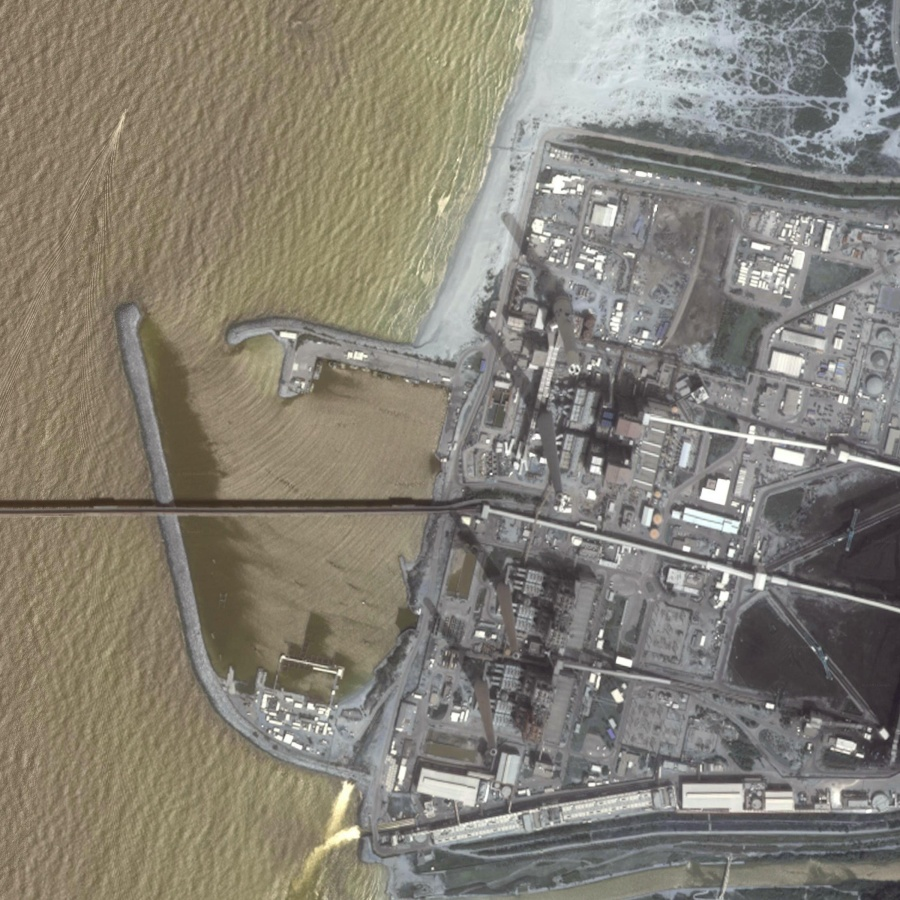PowerPlant: (390, 342, 651, 763)
